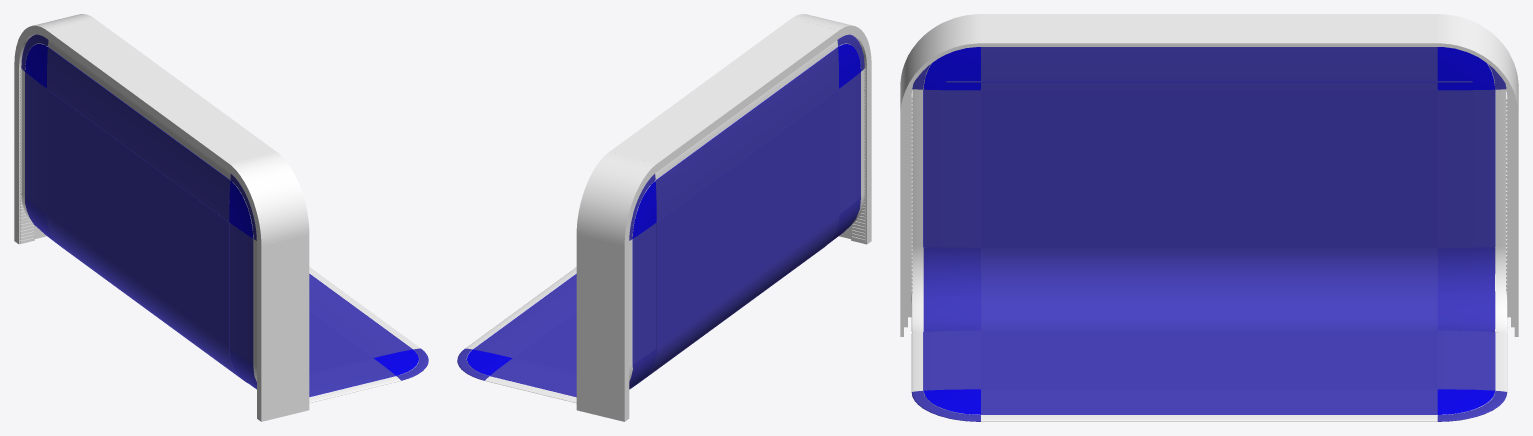
File: Display.glb
3 renders of one model, left to right at view 1: azimuth 30°, elevation 25°; view 2: azimuth 150°, elevation 25°; view 3: azimuth 270°, elevation 25°, orthographic. The views are drawn at different scales.
Parts seen in each view (by area): view 1: Stage; view 2: Stage; view 3: Stage.
Part boxes in pixels (bbox=[...]): Stage: bbox=[14, 14, 428, 421]; Stage: bbox=[457, 14, 871, 421]; Stage: bbox=[900, 14, 1518, 421].
Size of the model in its own units: 4 by 4.67 by 8.91.
